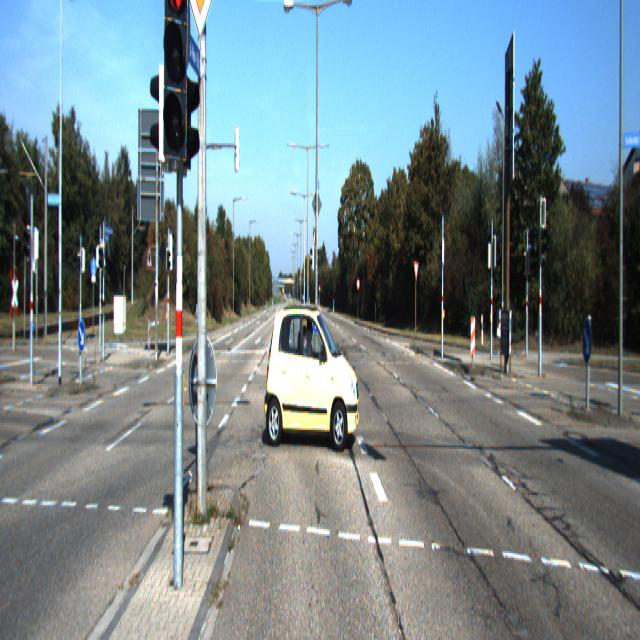Car: (262, 302, 360, 452)
